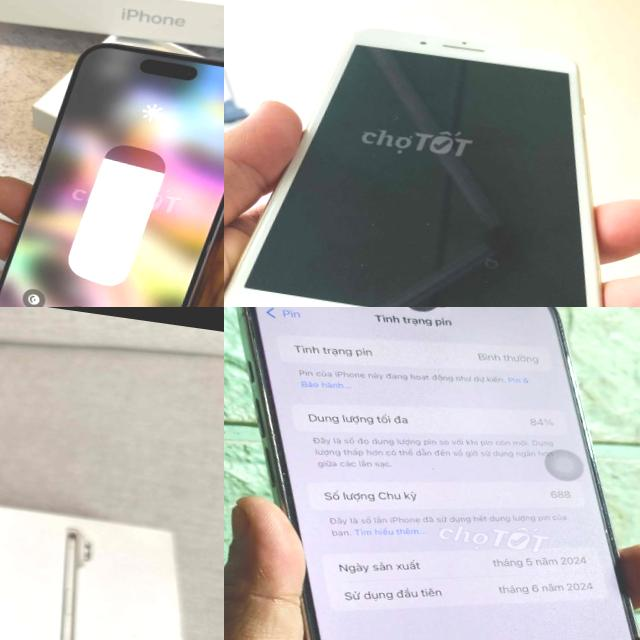screen_defect: (346, 307, 473, 325)
